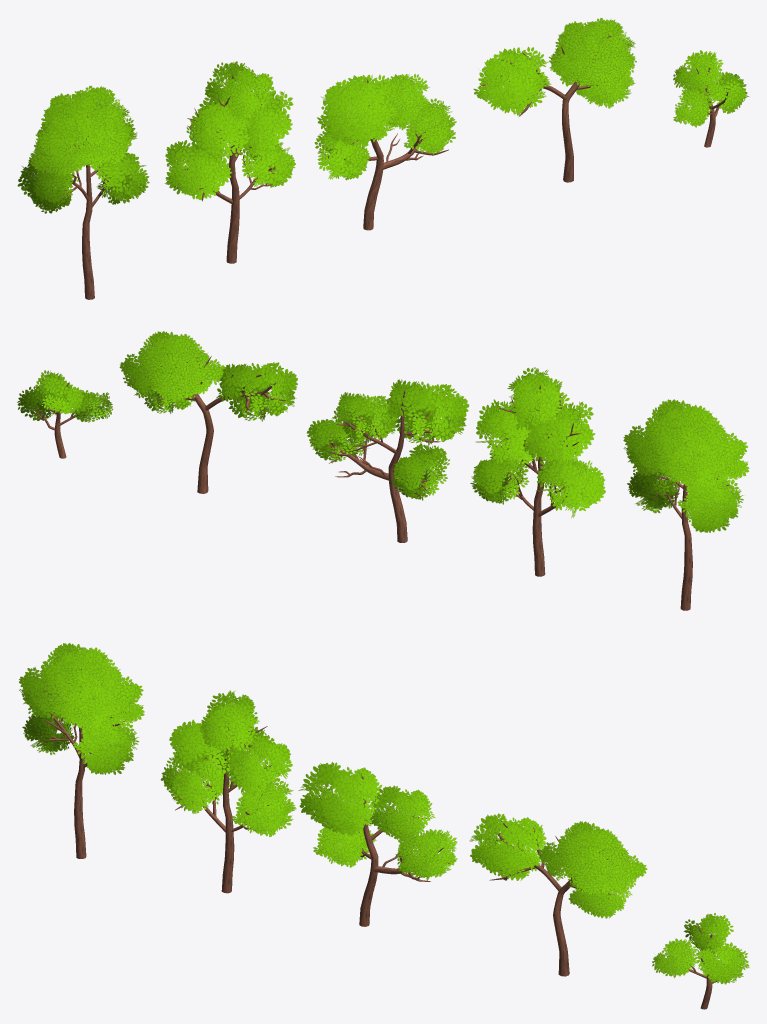
File: broadleaf.glb
3 renders of one model, top to bottom at view 1: azimuth 30°, elevation 25°; view 2: azimuth 150°, elevation 25°; view 3: azimuth 330°, elevation 25°, orthographic.
Parts seen in each view (by area): view 1: NormalTree_2, NormalTree_1, NormalTree_3, NormalTree_4, NormalTree_5; view 2: NormalTree_2, NormalTree_1, NormalTree_3, NormalTree_4, NormalTree_5; view 3: NormalTree_2, NormalTree_1, NormalTree_3, NormalTree_4, NormalTree_5.
Boxes of the visible parts, x1,y1,x2,y2 form: NormalTree_2: [164, 61, 295, 263]; NormalTree_1: [17, 85, 149, 299]; NormalTree_3: [314, 74, 456, 230]; NormalTree_4: [473, 18, 636, 182]; NormalTree_5: [673, 50, 749, 147]; NormalTree_2: [470, 367, 605, 576]; NormalTree_1: [623, 399, 749, 610]; NormalTree_3: [307, 379, 469, 542]; NormalTree_4: [119, 331, 297, 493]; NormalTree_5: [17, 370, 112, 458]; NormalTree_2: [160, 690, 296, 893]; NormalTree_1: [19, 643, 144, 858]; NormalTree_3: [298, 762, 457, 926]; NormalTree_4: [469, 813, 647, 976]; NormalTree_5: [652, 913, 749, 1009].
Bounding box in the file's own units: 24.93 × 6.87 × 3.
Materials: 2 (2 with a texture image).
